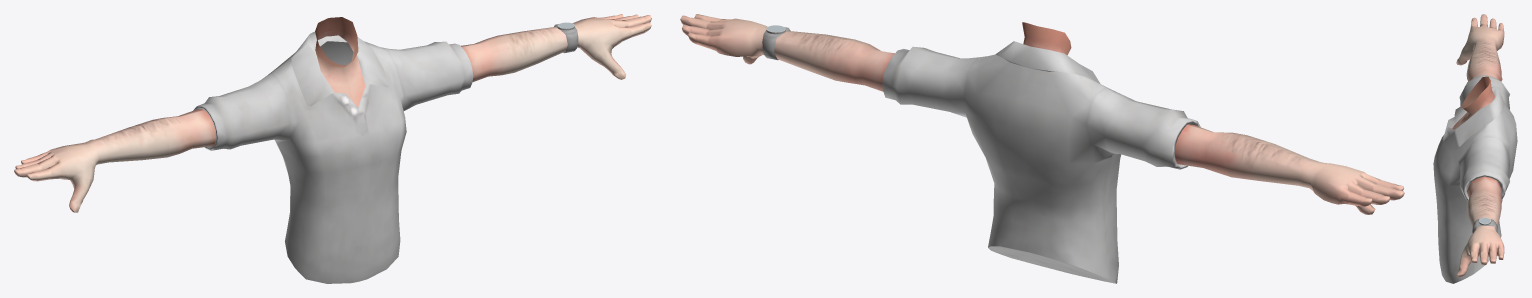
File: tr0800_00_upb00.gltf
3 renders of one model, left to right at view 1: azimuth 30°, elevation 25°; view 2: azimuth 150°, elevation 25°; view 3: azimuth 270°, elevation 25°, orthographic. The views are drawn at different scales.
Parts seen in each view (by area): view 1: upb00_upperbody_mesh_shape:upperbody00, upb00_upperskin_mesh_shape:upperbody00_skin; view 2: upb00_upperbody_mesh_shape:upperbody00, upb00_upperskin_mesh_shape:upperbody00_skin, upb00_watch_mesh_shape:upperbody00; view 3: upb00_upperbody_mesh_shape:upperbody00, upb00_upperskin_mesh_shape:upperbody00_skin, upb00_watch_mesh_shape:upperbody00.
Boxes of the visible parts, x1,y1,x2,y2 form: upb00_upperbody_mesh_shape:upperbody00: (193, 31, 473, 283); upb00_upperskin_mesh_shape:upperbody00_skin: (14, 14, 651, 212); upb00_upperbody_mesh_shape:upperbody00: (882, 41, 1200, 283); upb00_upperskin_mesh_shape:upperbody00_skin: (680, 14, 1404, 214); upb00_watch_mesh_shape:upperbody00: (762, 25, 790, 60); upb00_upperbody_mesh_shape:upperbody00: (1433, 75, 1517, 283); upb00_upperskin_mesh_shape:upperbody00_skin: (1452, 14, 1504, 277); upb00_watch_mesh_shape:upperbody00: (1472, 217, 1497, 233).
Size of what is drawn, in the model's own units: 1.63 by 0.5909 by 0.2347.
2 materials, 2 textured.
